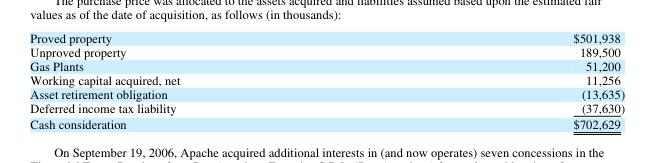table: (29, 28, 624, 131)
table column: (29, 28, 375, 131), (375, 28, 624, 131)
table row: (29, 28, 624, 44), (29, 115, 624, 131), (29, 100, 624, 115), (29, 44, 624, 58), (29, 58, 624, 72), (29, 72, 624, 86), (29, 86, 624, 100)
